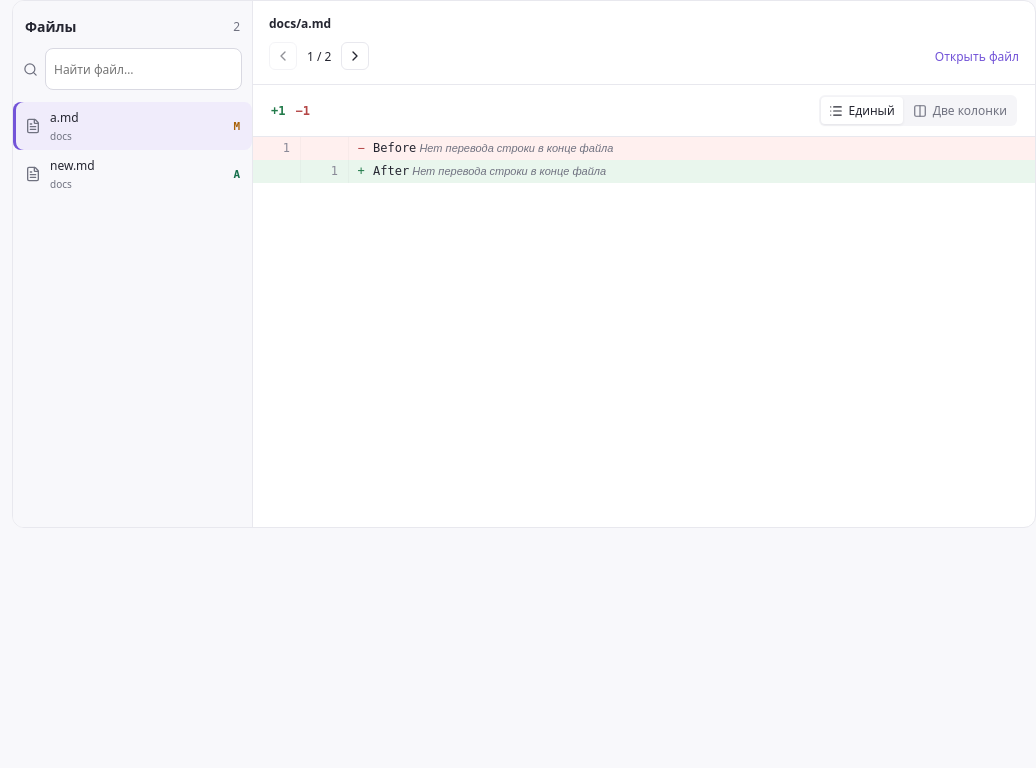
Test: navigates between text diffs and keeps the source branch in the edit link
The width and height of the screenshot is (1036, 768).
Expected: the text "Before" is shown, [373,141,416,155]
Expected: the text "After" is shown, [373,164,409,178]
Click the button named "Следующий файл": (356, 56) [342,42,370,70]
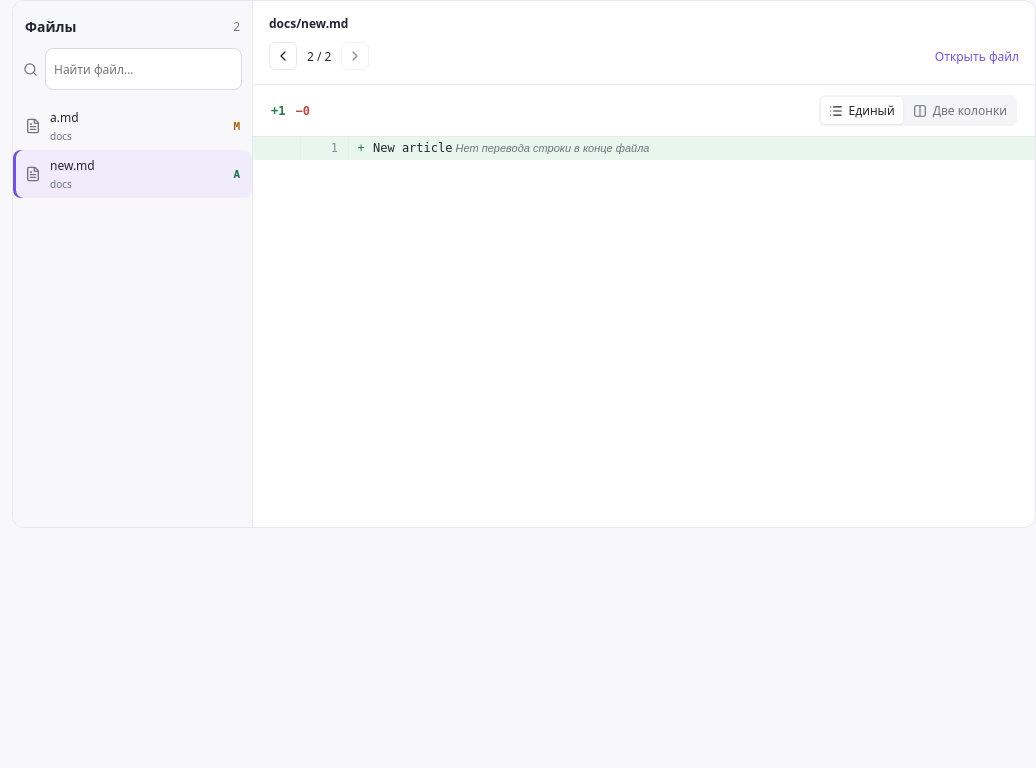
Now the text "New article" is shown, box [373,141,452,155]
Click the button named "Предыдущий файл": (283, 56) [269,42,297,70]
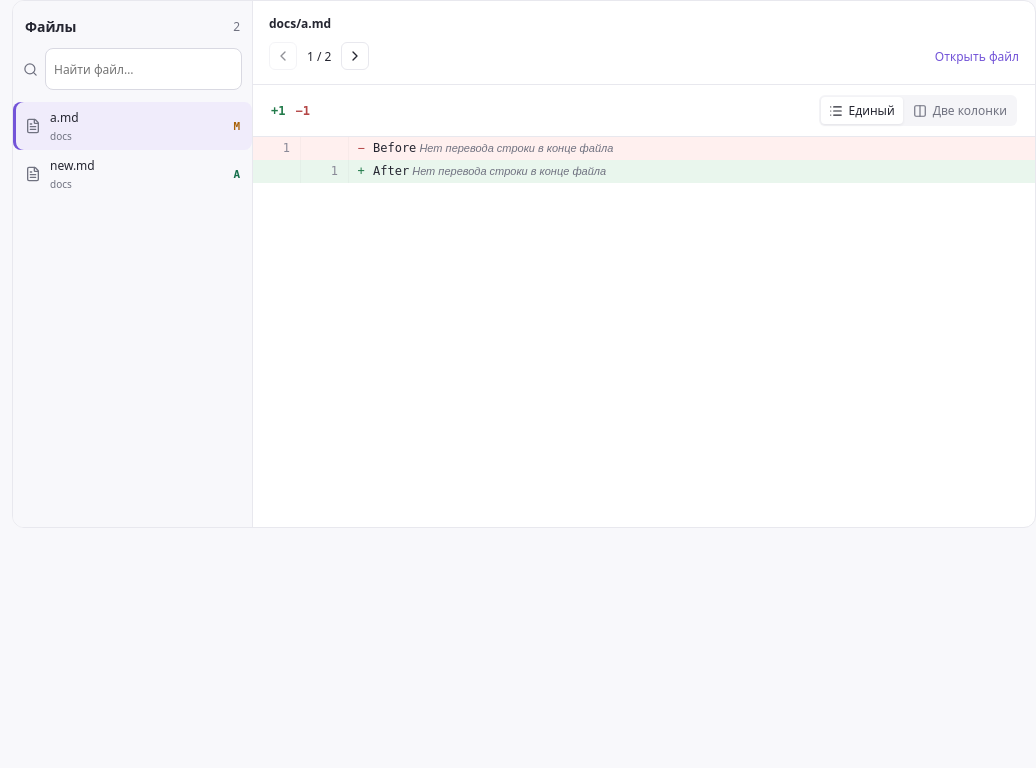
Now the text "Before" is shown, box [373,141,416,155]
Click the button named "Следующий файл": (356, 56) [342,42,370,70]
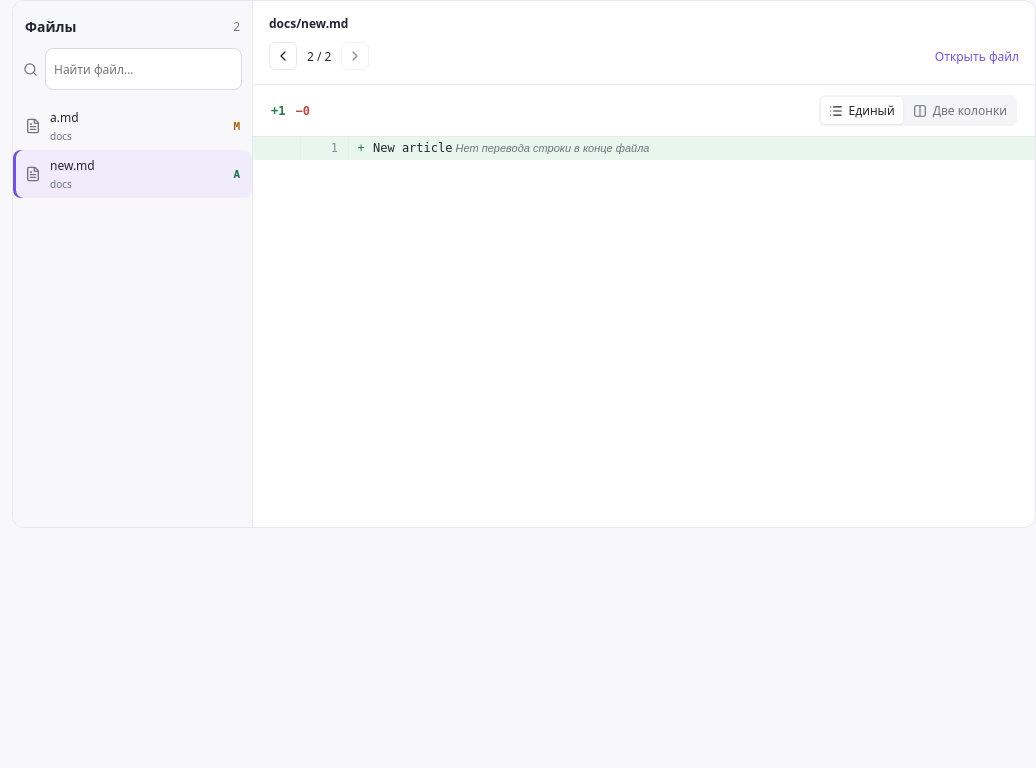
Click the option with aria-label "docs/a.md M": (132, 126) [13,102,252,150]
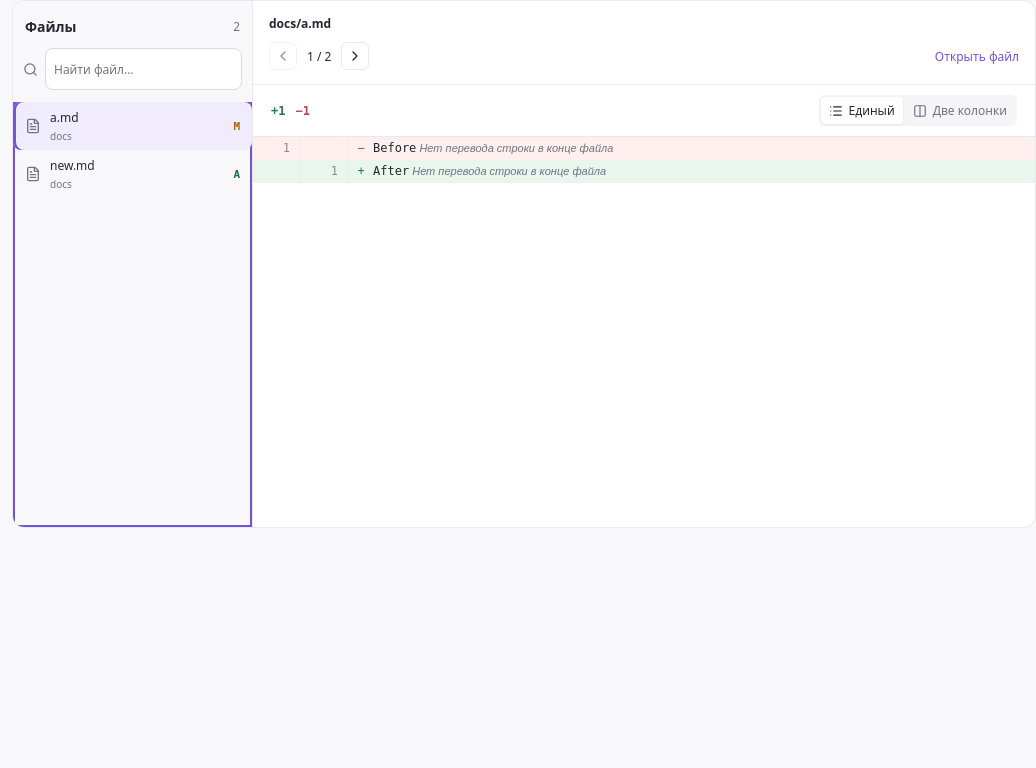
Now the text "Before" is shown, box [373,141,416,155]
